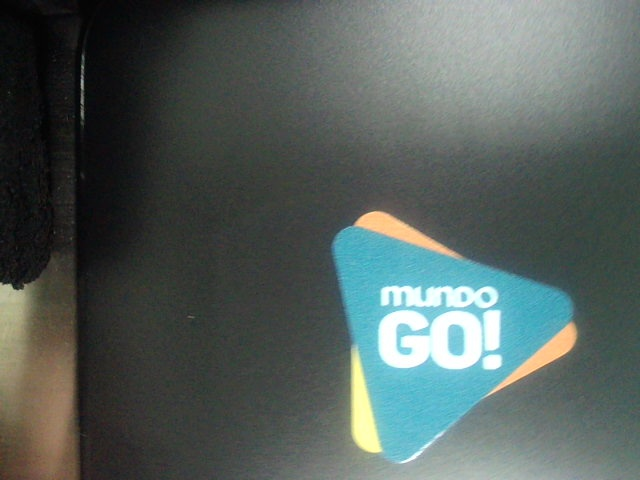AP_IPGMundoGO: (307, 204, 585, 464)
